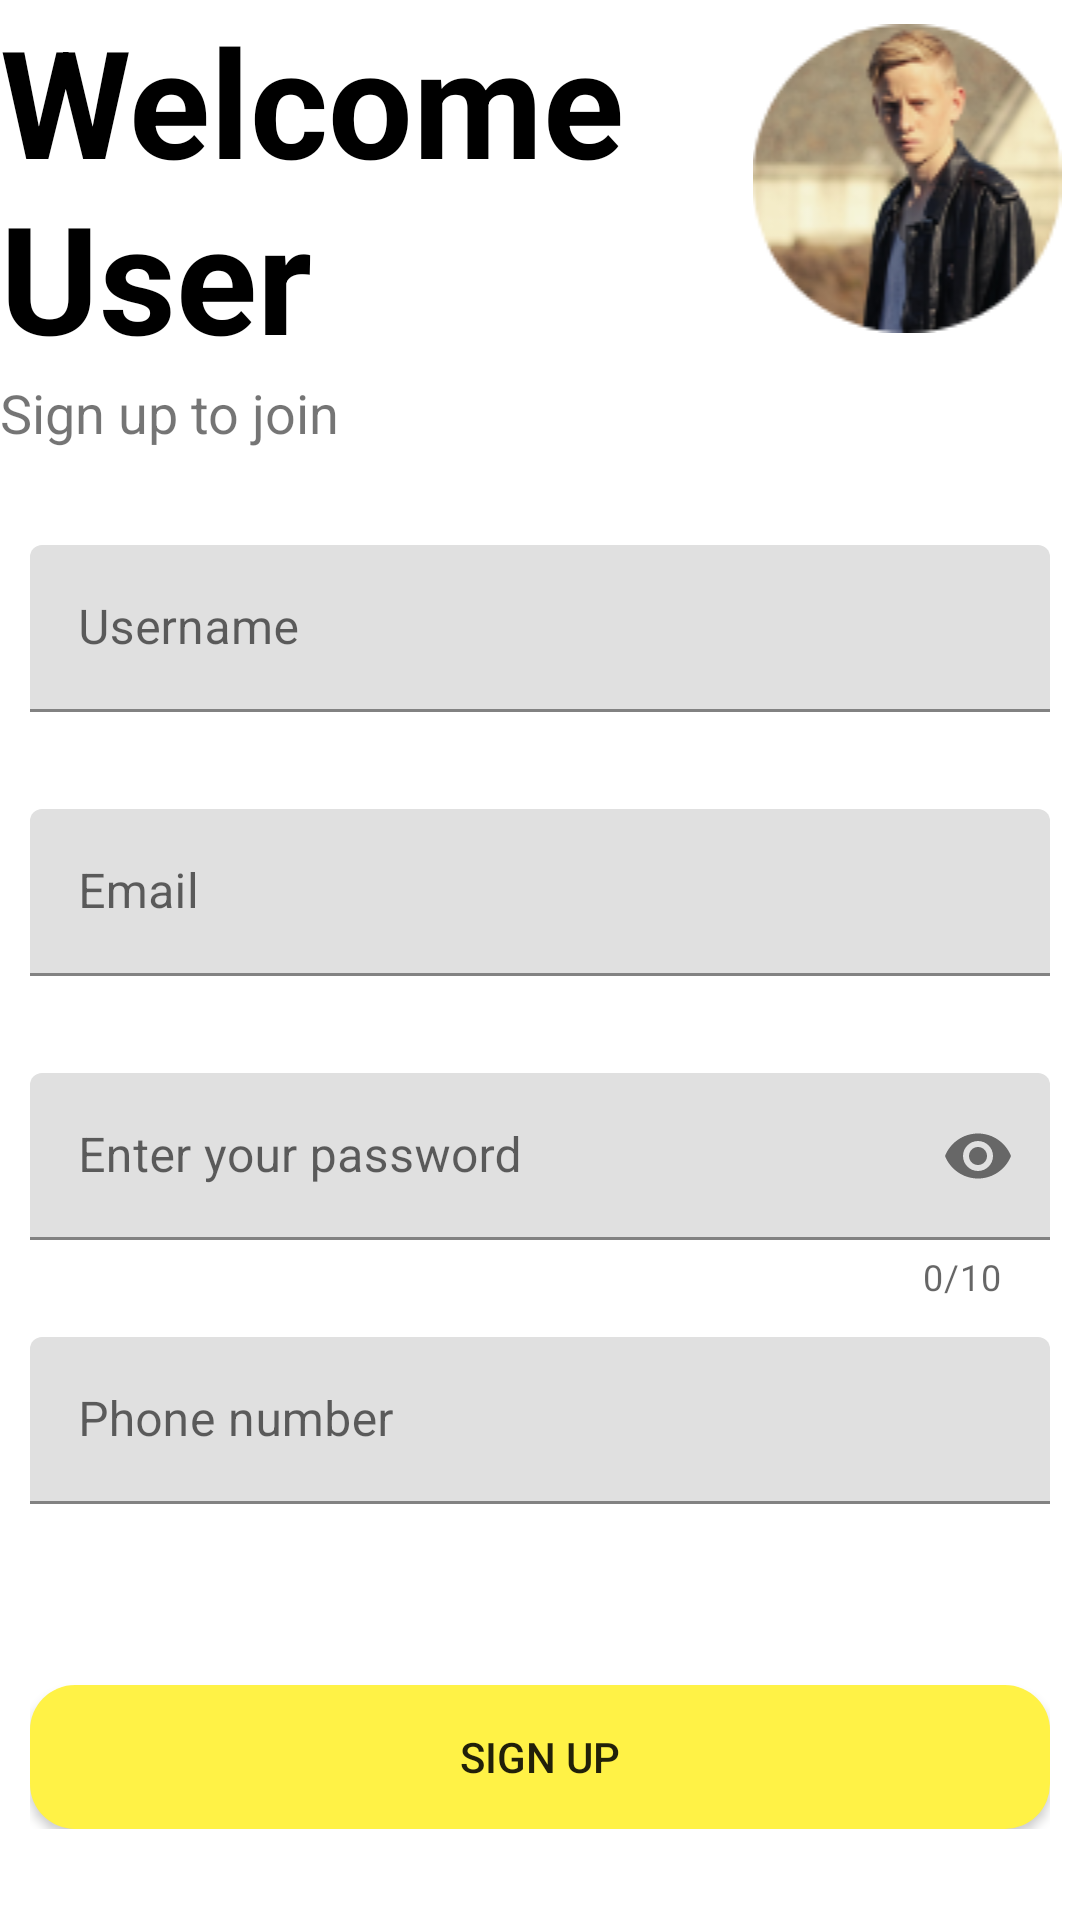

Icon bounding boxes for this 1080*1920 phone screenshot, format (x1, y1, x2, y2):
sign up user: (753, 24, 1062, 333)
